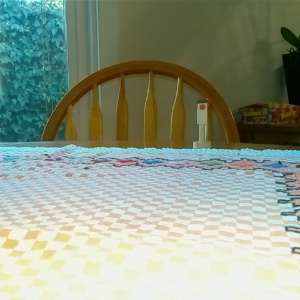traffic light red: (192, 97, 212, 151)
